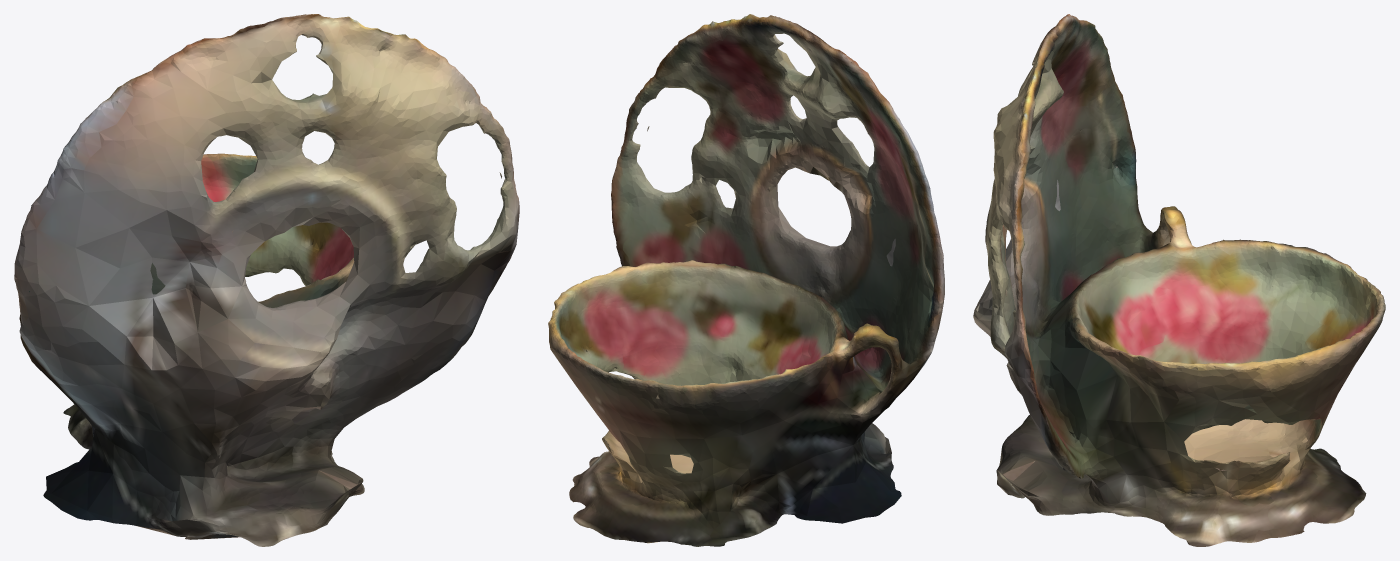
The model's file is teacup.glb.
3 renders of one model, left to right at view 1: azimuth 30°, elevation 25°; view 2: azimuth 150°, elevation 25°; view 3: azimuth 270°, elevation 25°, orthographic. The views are drawn at different scales.
Parts seen in each view (by area): view 1: Scaniverse_2026_08_23_152156; view 2: Scaniverse_2026_08_23_152156; view 3: Scaniverse_2026_08_23_152156.
Part boxes in pixels (x1,y1,x2,y2): Scaniverse_2026_08_23_152156: (14, 14, 519, 546); Scaniverse_2026_08_23_152156: (548, 14, 944, 546); Scaniverse_2026_08_23_152156: (973, 14, 1385, 546).
Size of the model in its own units: 0.1405 by 0.1503 by 0.1244.
1 material, 1 textured.
